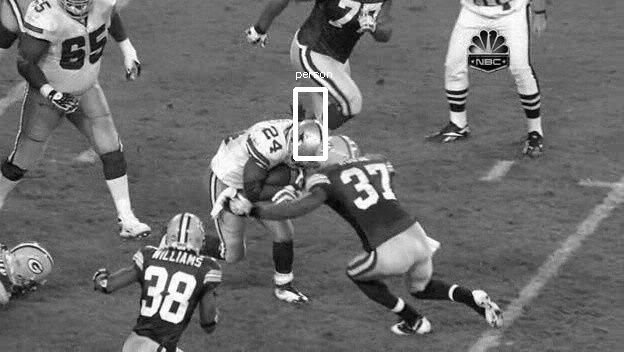person: (289, 122, 322, 165), (288, 122, 321, 165), (290, 122, 323, 165), (289, 121, 322, 164), (289, 123, 322, 166)
target_negative: (61, 104, 294, 318), (108, 57, 541, 165), (382, 240, 554, 351), (410, 3, 448, 215), (483, 119, 489, 152), (567, 120, 579, 126)
